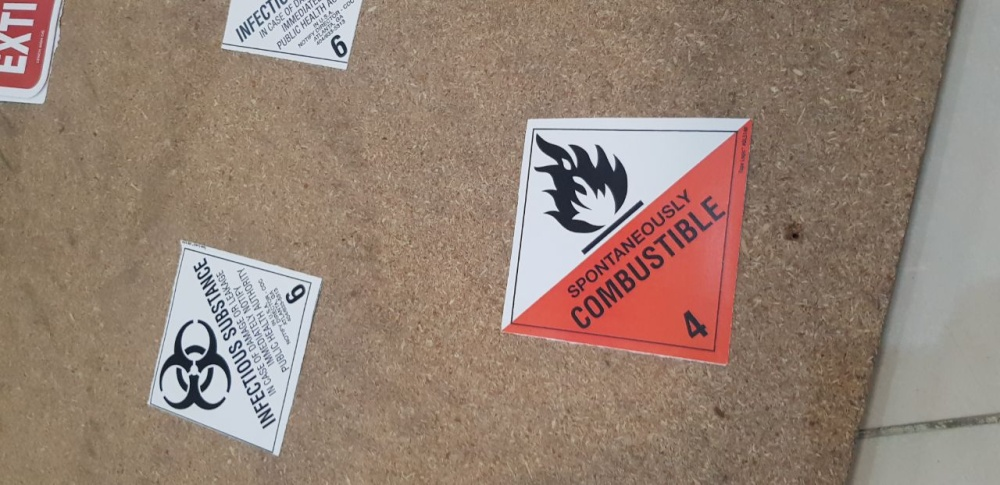infectious-substance: (501, 116, 748, 367), (149, 242, 318, 457), (222, 1, 358, 67)
